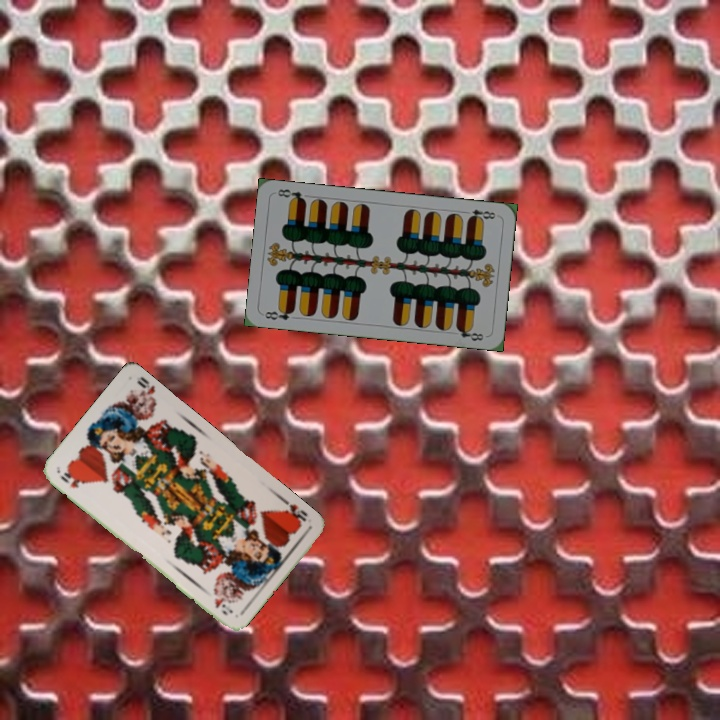E8: (460, 205, 498, 223), (261, 305, 297, 323)
HO: (279, 500, 310, 528), (57, 467, 86, 491)
